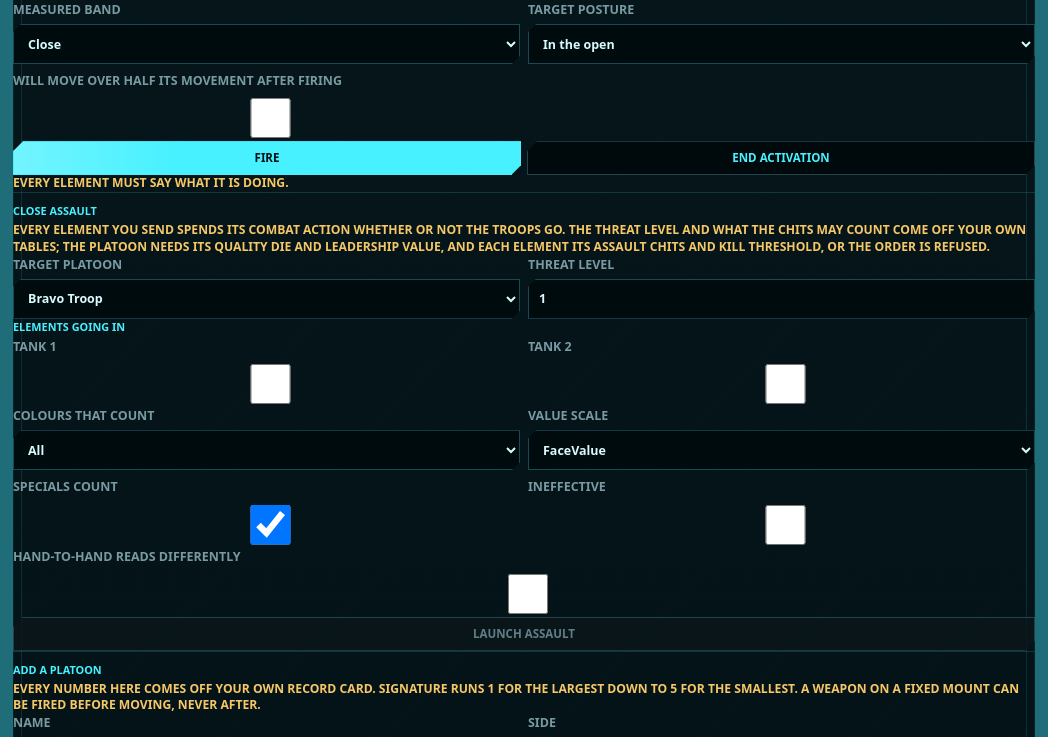
Scenario: Dirtside close assault › launches an assault with the elements ticked, the threat entered and the validity chosen
(page scrolled)
Expected: the button "Launch Assault" is disabled, top-left (13, 617), bottom-right (1035, 651)
Click the checkbox labelled "Tank 1" at (270, 384), box top-left (17, 364), bottom-right (524, 404)
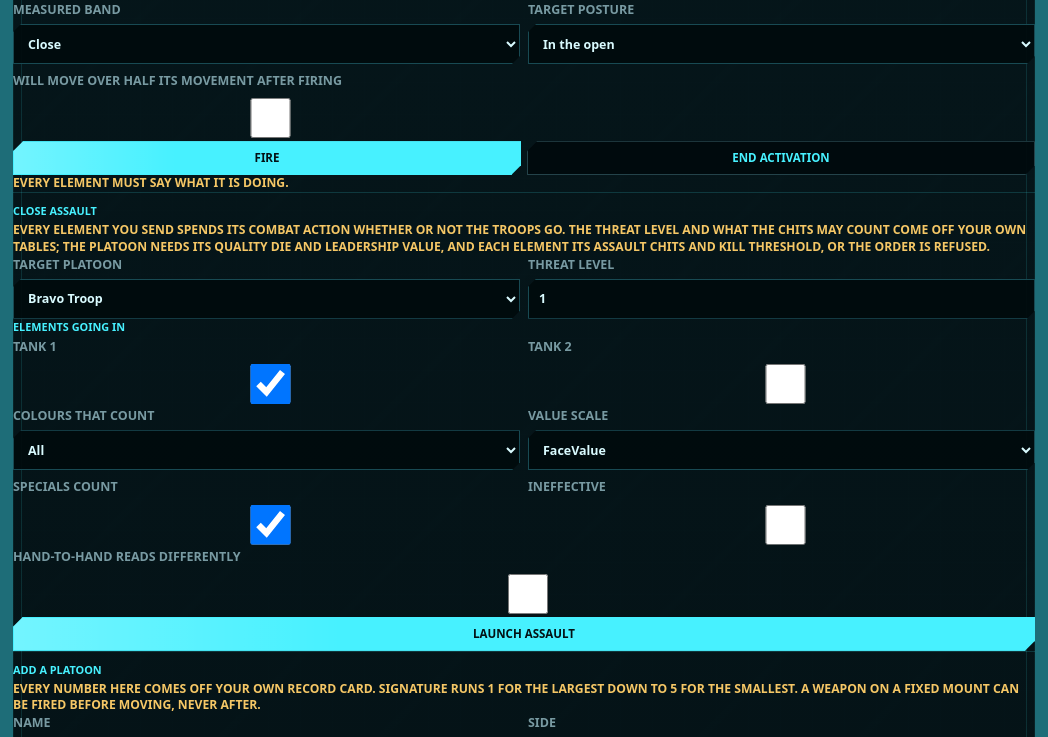
Click the checkbox labelled "Tank 2" at (784, 384), box top-left (532, 364), bottom-right (1036, 404)
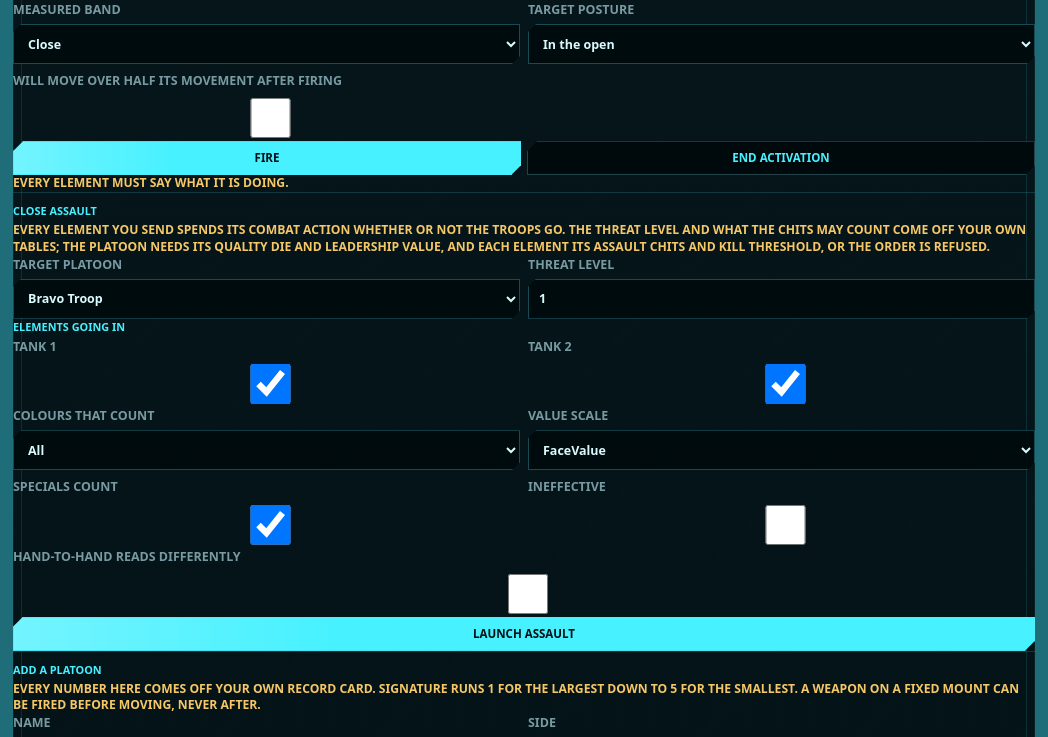
Replace the text in the number field labelled "Threat level" with "2" at (782, 299), box top-left (528, 279), bottom-right (1035, 319)
Select "Red" in the dropdown labelled "Colours that count" at (266, 450), box top-left (13, 430), bottom-right (520, 470)
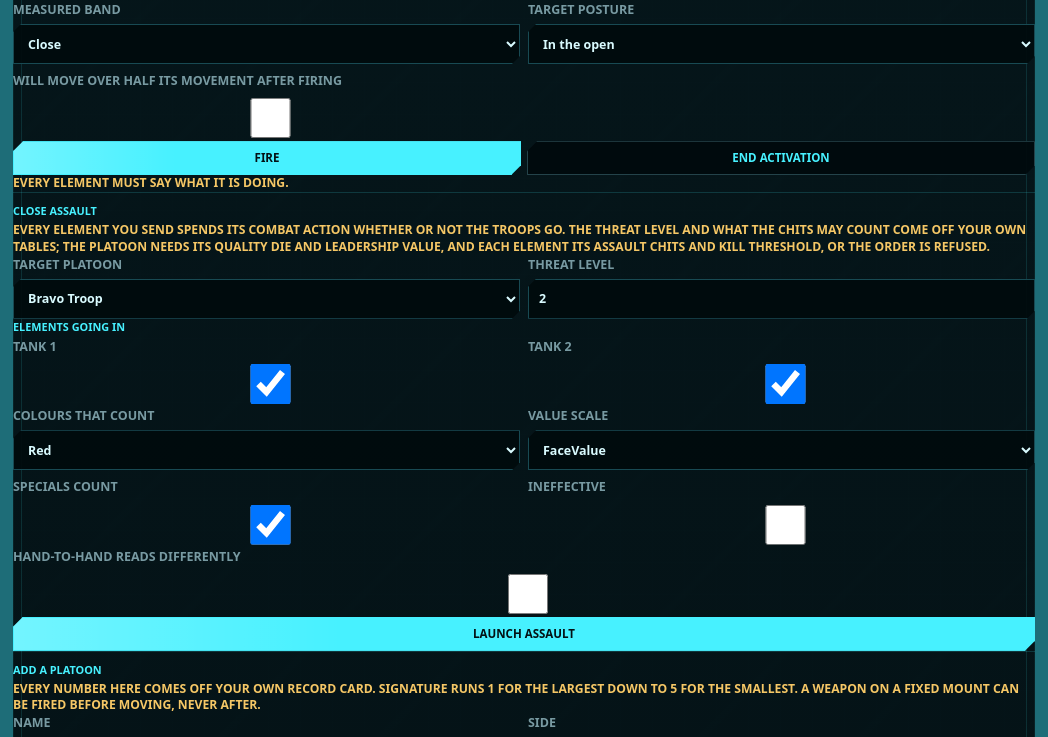
Select "Halved" in the dropdown labelled "Value scale" at (782, 450), box top-left (528, 430), bottom-right (1035, 470)
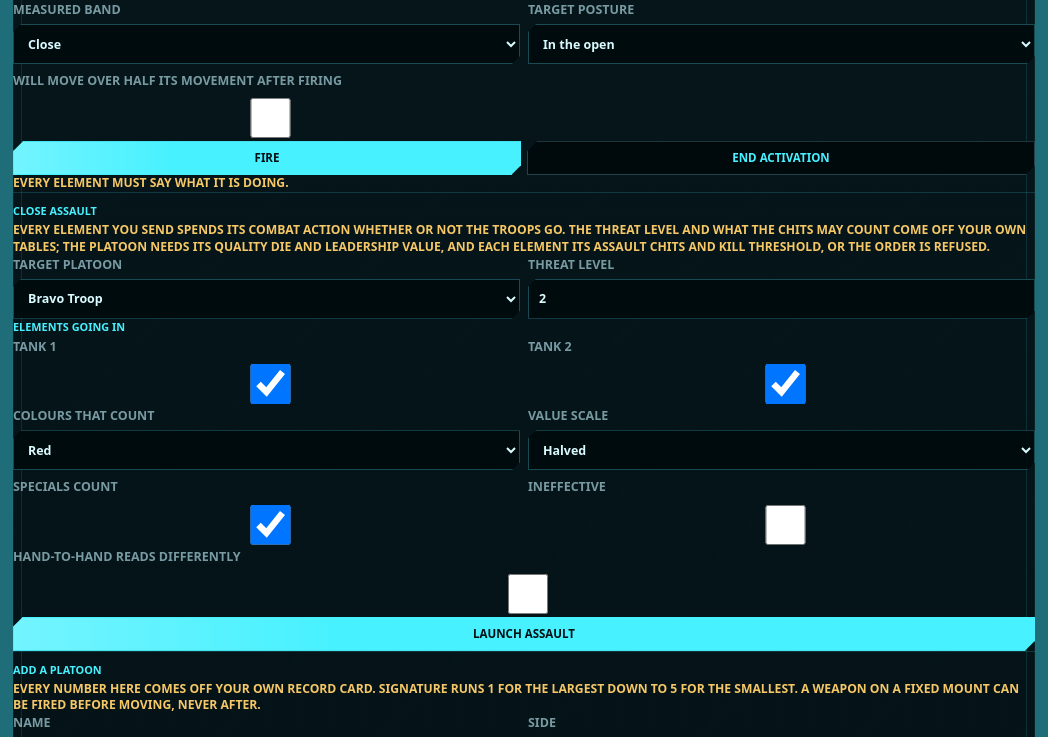
Click the checkbox labelled "Specials count" at (270, 524), box top-left (17, 504), bottom-right (524, 544)
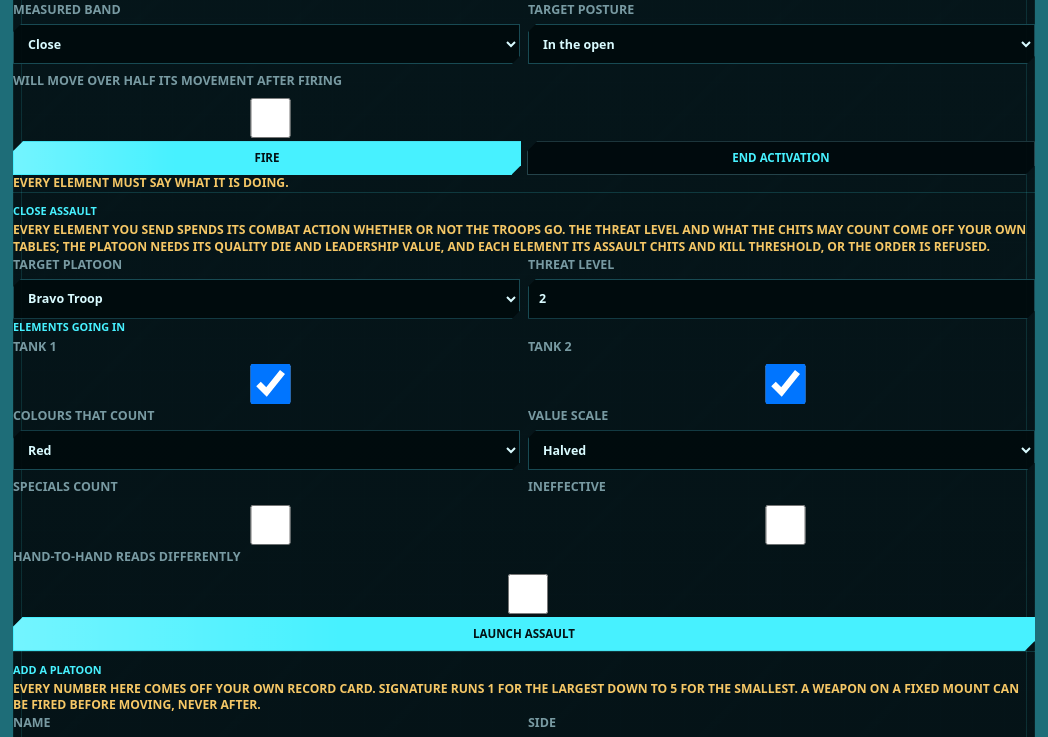
Click the button "Launch Assault" at (524, 634), box top-left (13, 617), bottom-right (1035, 651)
(page scrolled)
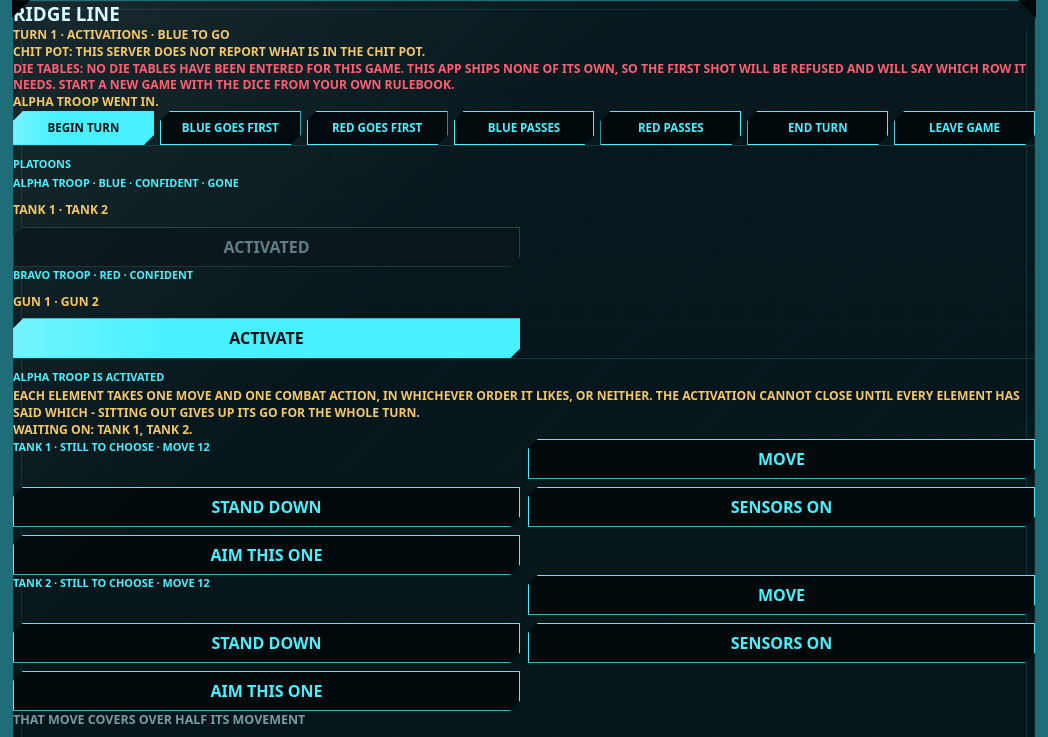
Expected: the text "Alpha Troop went in." is shown, top-left (13, 93), bottom-right (159, 110)
